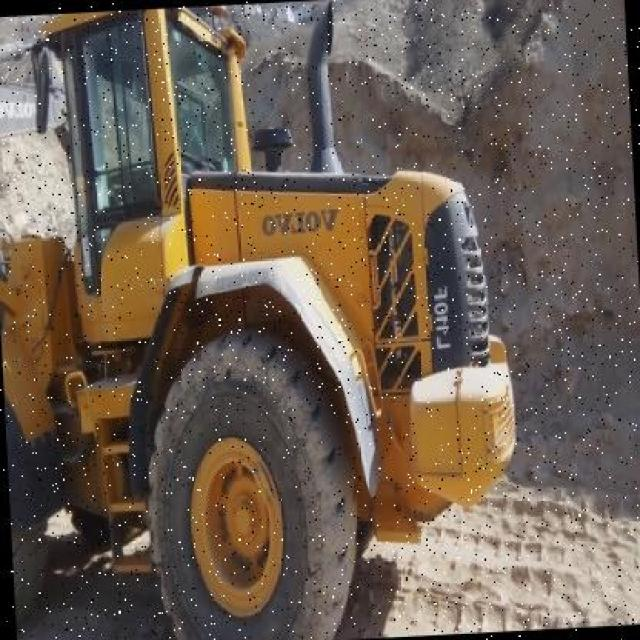buldozerpayloadergrader: (0, 0, 525, 640)
